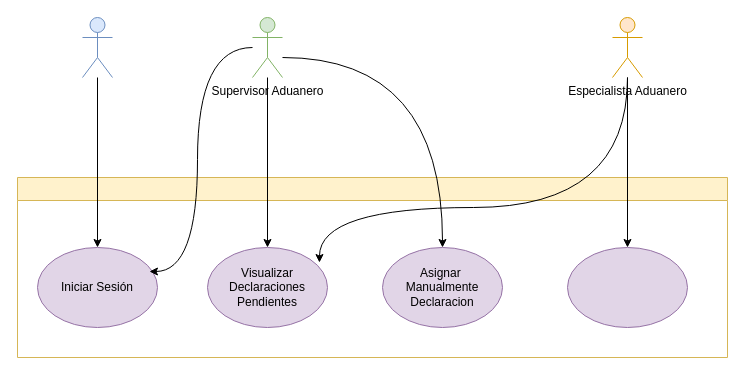
Image size: 745x375. Some labels were removed from this diagram. Here are the shapes that lost their labels. From the top down, the box of each, then its label:
(82, 16, 112, 78): Administrador Sistema
(16, 176, 728, 358): Sistema SIAD
(566, 246, 688, 328): Actualizar Disponibilidad
